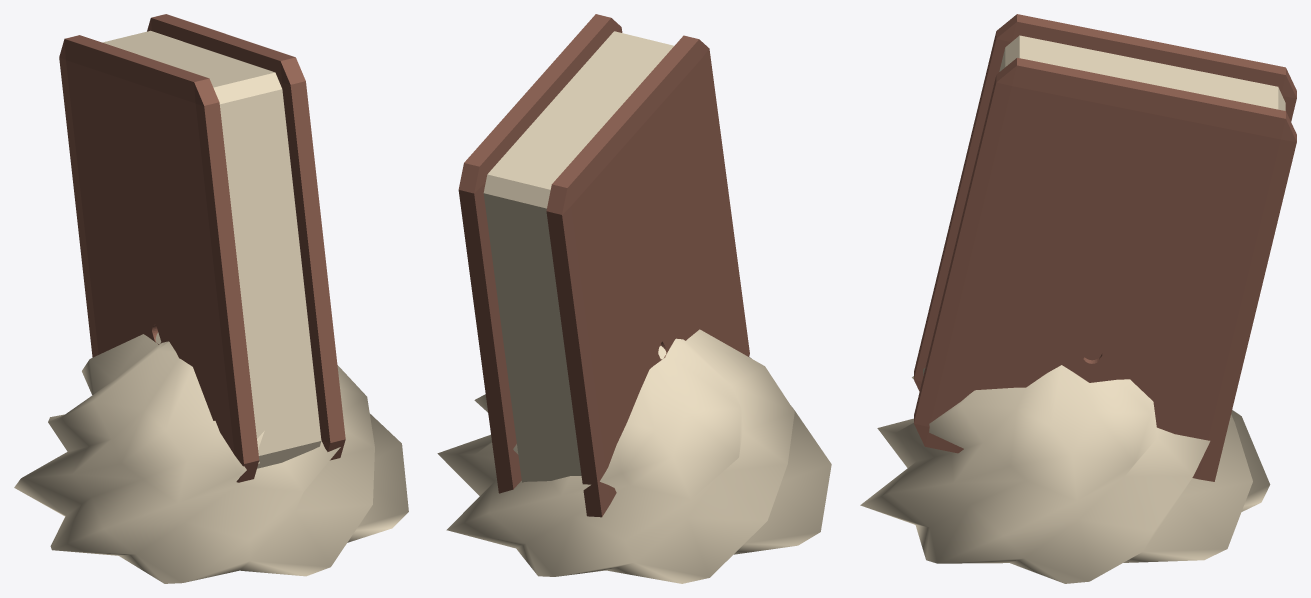
Rendered from sandwich.fbx.
The picture shows the model from 3 angles, left to right: view 1: azimuth 30°, elevation 25°; view 2: azimuth 150°, elevation 25°; view 3: azimuth 270°, elevation 25°; orthographic projection. The views are drawn at different scales.
Parts seen in each view (by area): view 1: Sandwich, Cream4Icecream, IceCream; view 2: Sandwich, Cream4Icecream, IceCream; view 3: Sandwich, Cream4Icecream, IceCream.
Part boxes in pixels (x1=…): Sandwich: x1=59, y1=14, x2=345, y2=482; Cream4Icecream: x1=14, y1=332, x2=408, y2=583; IceCream: x1=102, y1=30, x2=321, y2=468; Sandwich: x1=458, y1=14, x2=749, y2=517; Cream4Icecream: x1=437, y1=329, x2=831, y2=583; IceCream: x1=483, y1=31, x2=673, y2=482; Sandwich: x1=914, y1=14, x2=1296, y2=481; Cream4Icecream: x1=860, y1=365, x2=1270, y2=583; IceCream: x1=999, y1=35, x2=1285, y2=110.
Bounding box in the file's own units: 200 × 252 × 213.
